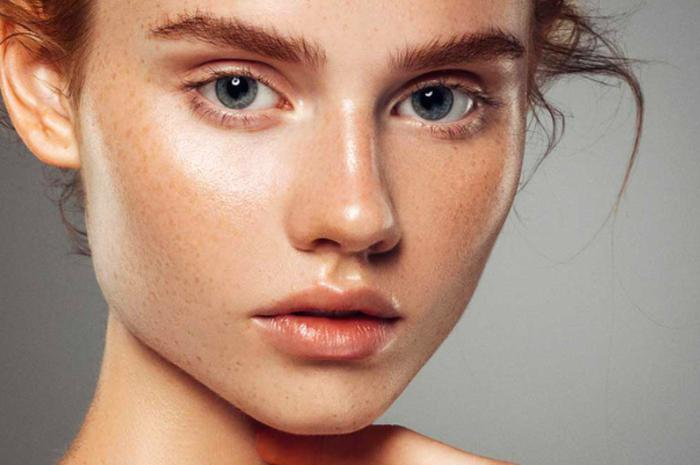Oily-Skin: (475, 56, 522, 247), (370, 135, 394, 228), (340, 97, 363, 180), (343, 197, 365, 221)
